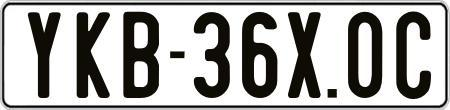0: (346, 10, 382, 97)
3: (191, 11, 229, 103)
6: (242, 10, 280, 101)
B: (120, 9, 161, 101)
C: (396, 11, 437, 99)
K: (77, 9, 110, 98)
X: (286, 11, 323, 101)
Y: (27, 12, 61, 101)
